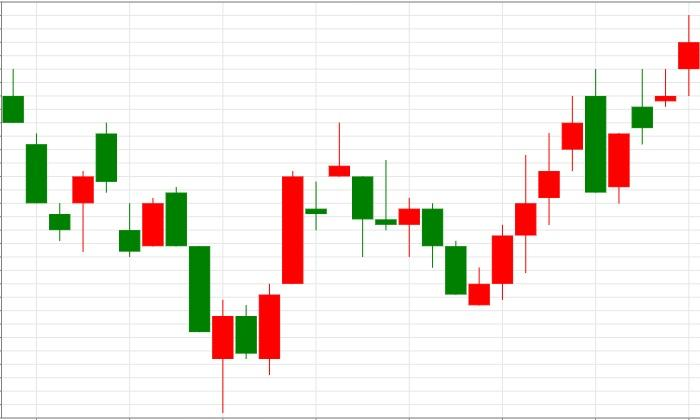bearish_engulfing_fall: (468, 70, 606, 305)
bullish_engulfing_rise: (165, 187, 280, 414)
